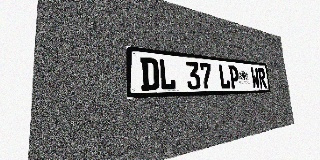3: (186, 61, 201, 90)
7: (199, 62, 213, 90)
D: (140, 57, 159, 91)
L: (158, 59, 176, 90), (218, 64, 231, 89)
P: (228, 65, 240, 89)
R: (258, 68, 267, 88)
W: (250, 67, 260, 88)
